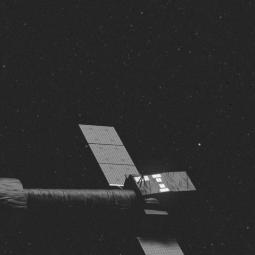xmm_newton: (0, 139, 210, 255)
